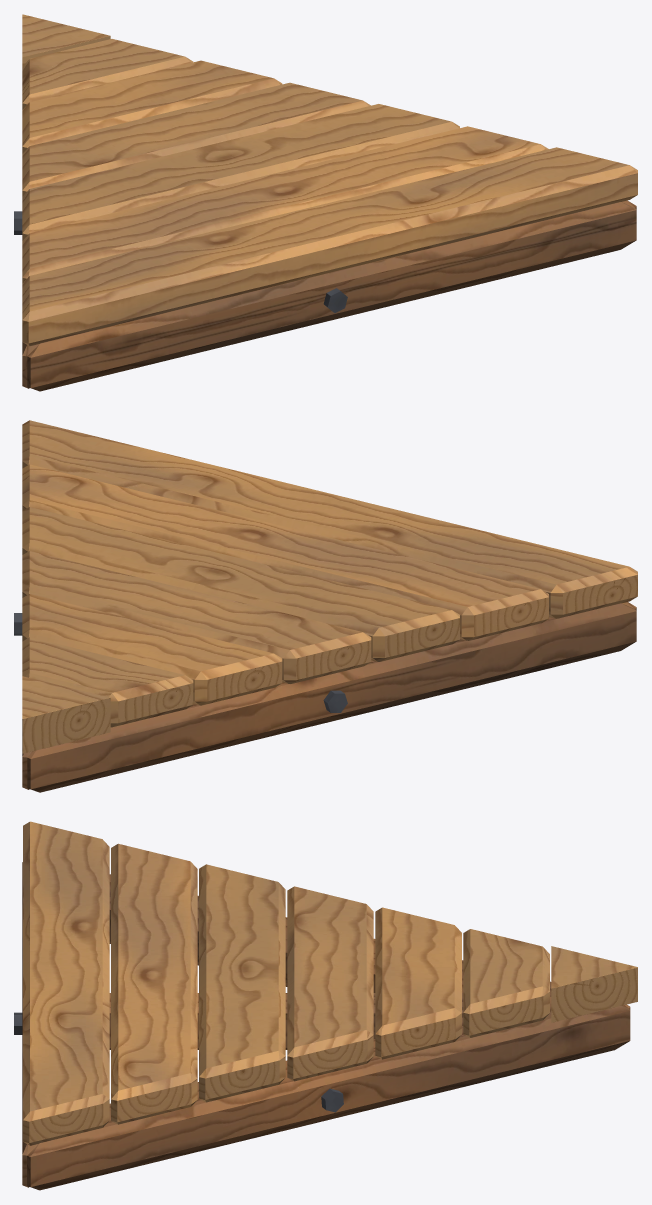
The model's file is ucgen_zemin.glb.
3 renders of one model, top to bottom at view 1: azimuth 30°, elevation 25°; view 2: azimuth 150°, elevation 25°; view 3: azimuth 270°, elevation 25°, orthographic.
Visible parts, largest first — view 1: ucgen_zemin; view 2: ucgen_zemin; view 3: ucgen_zemin.
Boxes of the visible parts, left/top/right/bottom form: ucgen_zemin: left=14, top=14, right=637, bottom=391; ucgen_zemin: left=14, top=420, right=637, bottom=792; ucgen_zemin: left=14, top=821, right=637, bottom=1190.
Size of the model in its own units: 2.97 by 0.377 by 2.63.
1 material, 1 textured.
